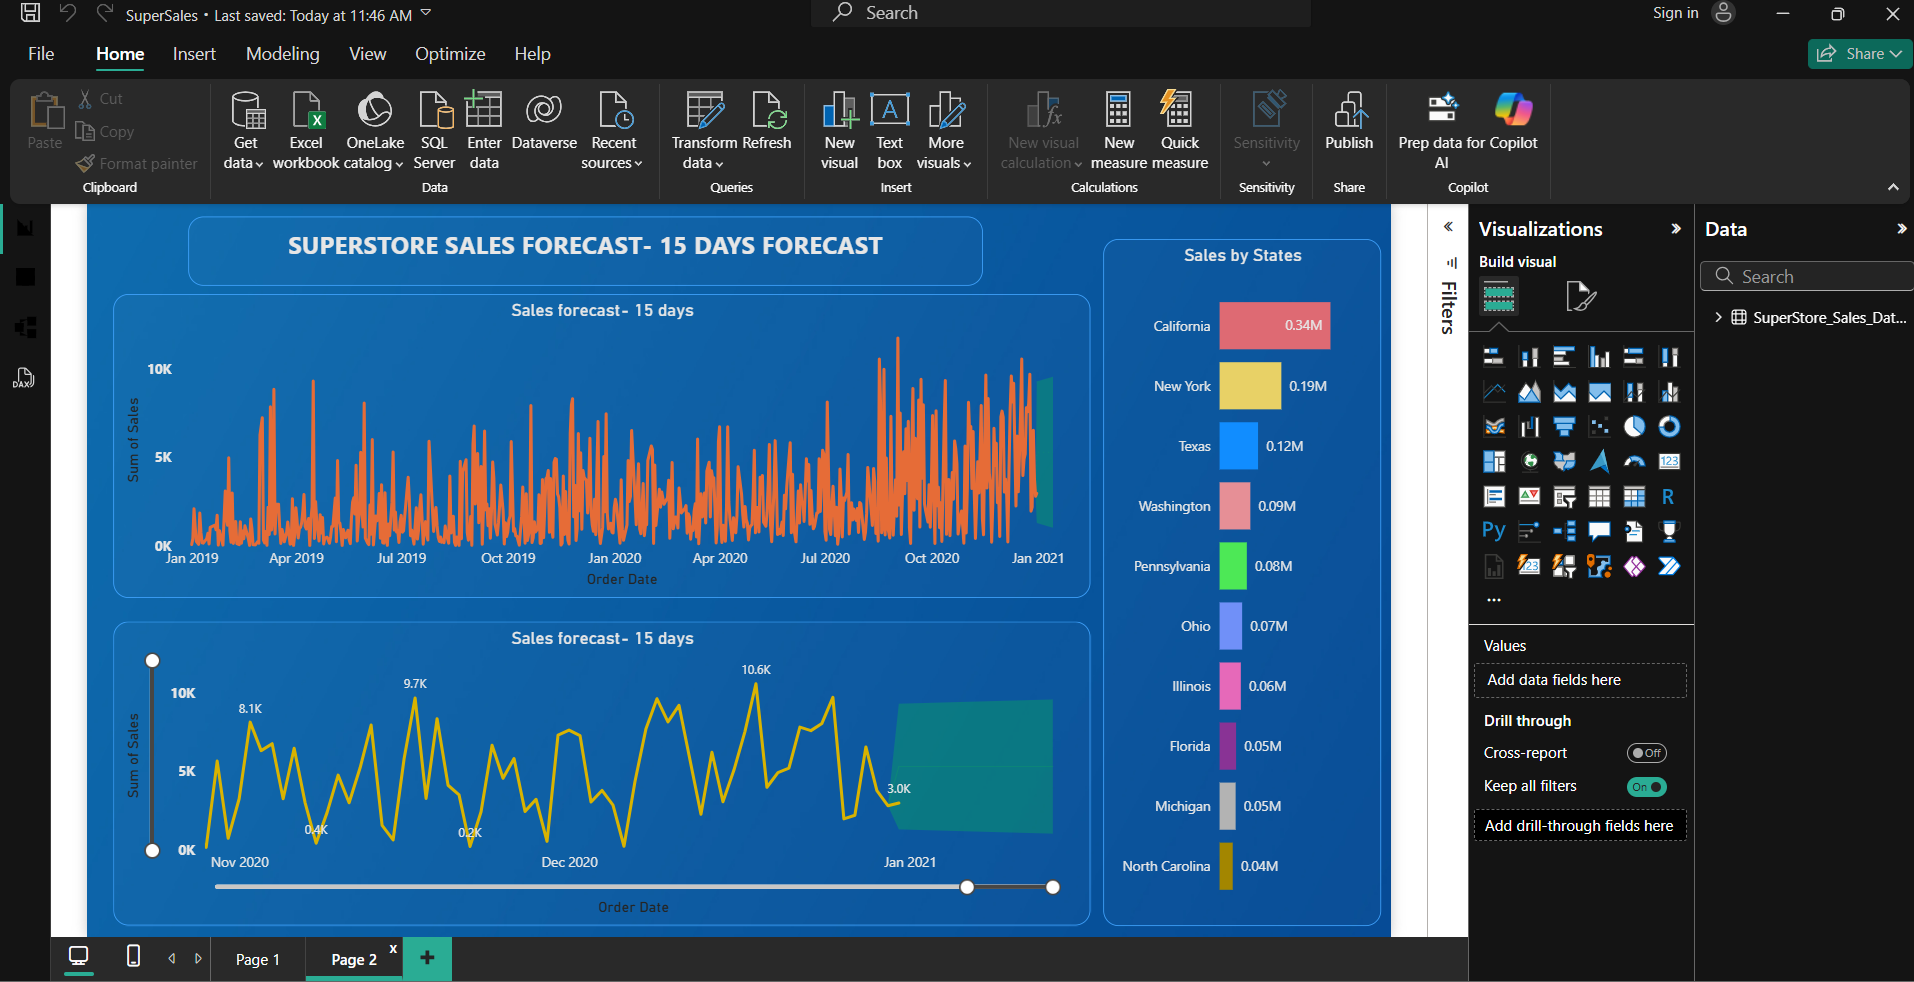

What the dashboard file says about the page in this screenshot:
{"tool":"powerbi","page":{"name":"Page 2","canvas":[1280,720],"ordinal":1},"visuals":[{"type":"lineChart","title":"Sales forecast- 15 days","fields":{"Y":["Sum(SuperStore_Sales_Dataset.Sales)"],"Category":["SuperStore_Sales_Dataset.Order Date"]},"box":[25.9,88.9,959.3,298.8],"z":0},{"type":"lineChart","title":"Sales forecast- 15 days","fields":{"Y":["Sum(SuperStore_Sales_Dataset.Sales)"],"Category":["SuperStore_Sales_Dataset.Order Date"]},"box":[25.9,409.9,959.3,298.8],"z":1000},{"type":"clusteredBarChart","title":"Sales by States","fields":{"Y":["Sum(SuperStore_Sales_Dataset.Sales)"],"Category":["SuperStore_Sales_Dataset.State"]},"box":[997.5,34.6,272.8,674.1],"z":2000},{"type":"textbox","box":[100,12.3,780.2,67.9],"z":3000}]}

Visuals, with their boxes on the page's 1280x720 design canvas (x1, y1, x2, y2). These are canvas units, not pixel positions in the 1914x982 screenshot, which may show the page scaled, cropped or inside an application window:
"Sales forecast- 15 days" lineChart: BBox(26, 89, 985, 388)
"Sales forecast- 15 days" lineChart: BBox(26, 410, 985, 709)
"Sales by States" clusteredBarChart: BBox(998, 35, 1270, 709)
textbox: BBox(100, 12, 880, 80)
